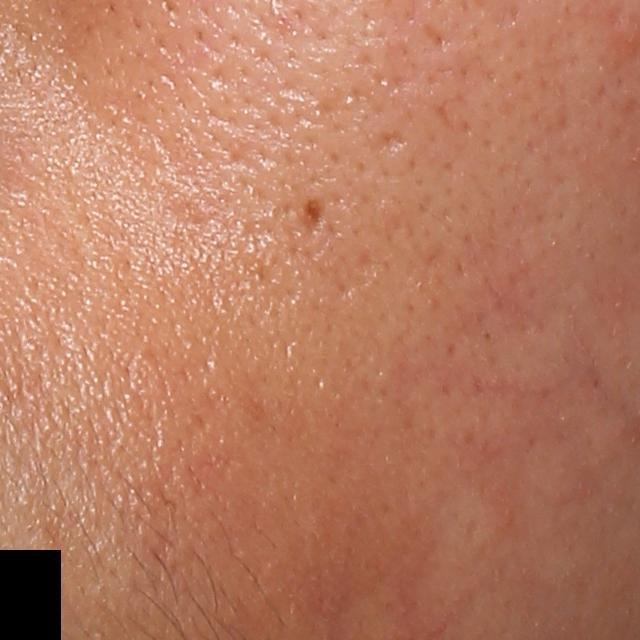atrophic_scar: (373, 129, 406, 156)
nevus: (304, 192, 326, 237)
